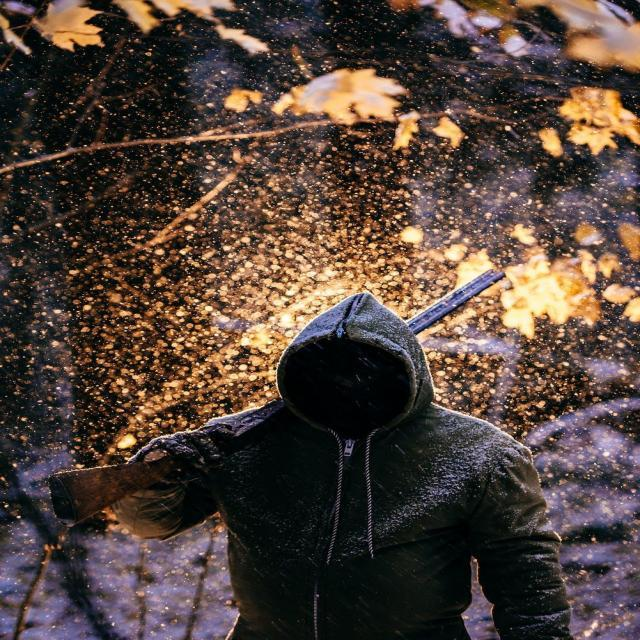weapon: (44, 266, 510, 527)
